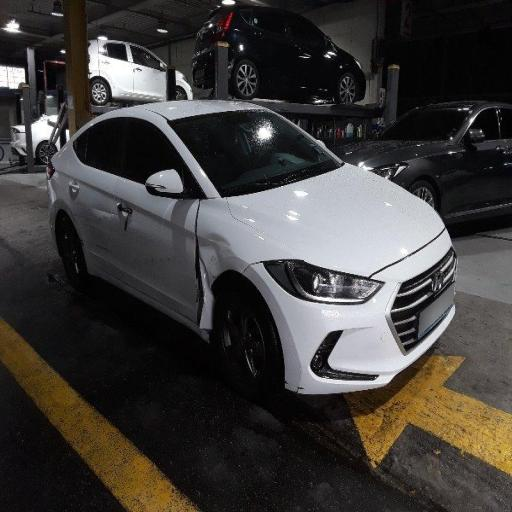broken: (173, 190, 263, 338)
scratch: (275, 312, 335, 408)
